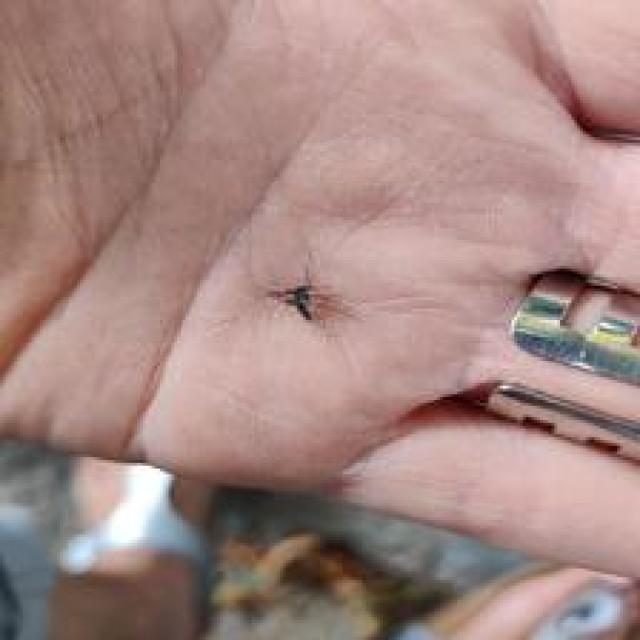Aedes albopictus: (508, 270, 640, 398)
